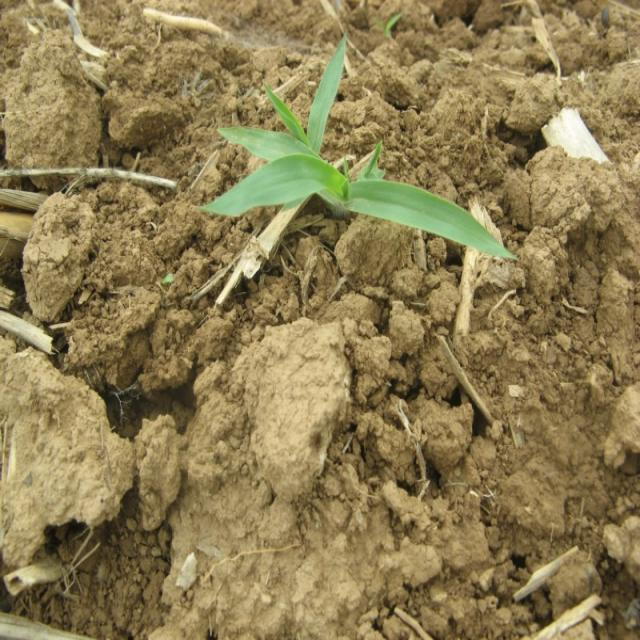bg: (206, 39, 510, 258)
